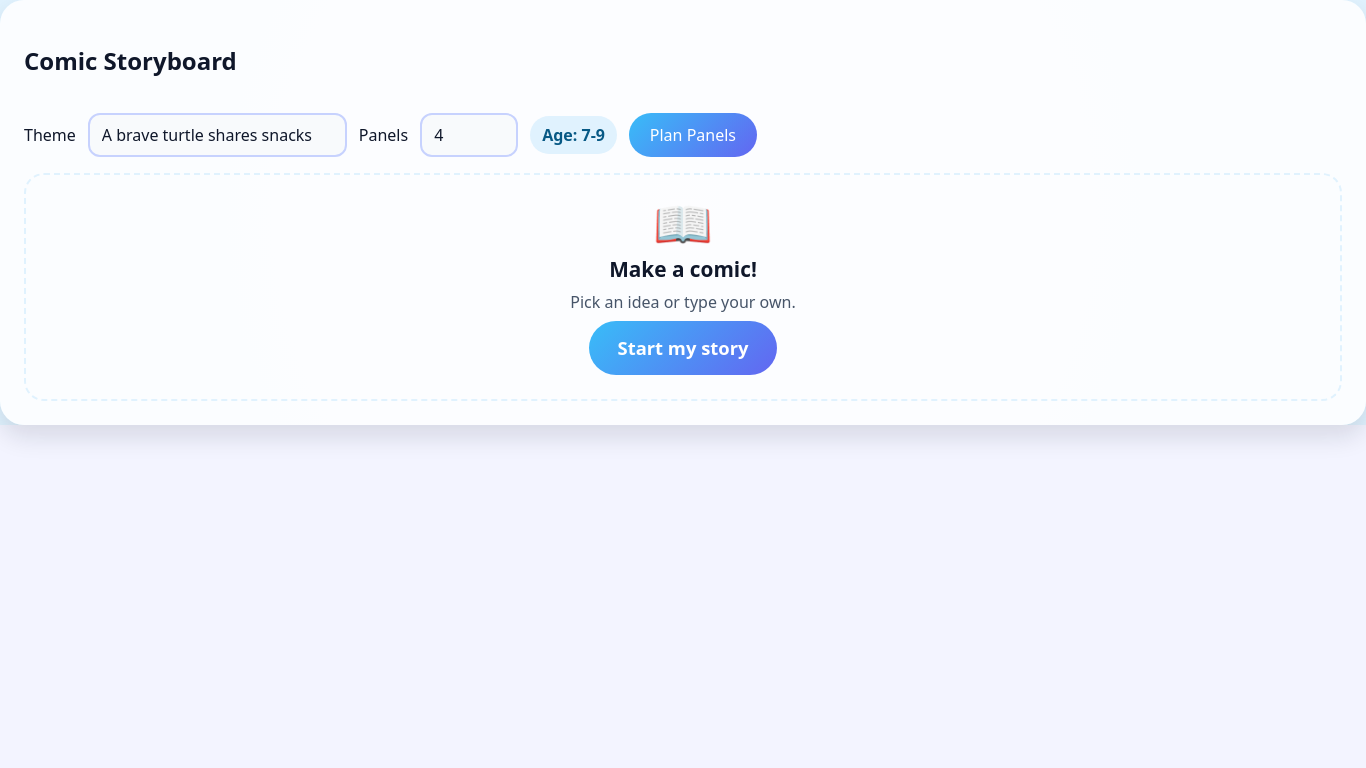
ComicBoard artwork rendering › clears stale panels when a later response is degraded
Click the button "Plan Panels".
click(693, 135)  # box [629,113,757,157]
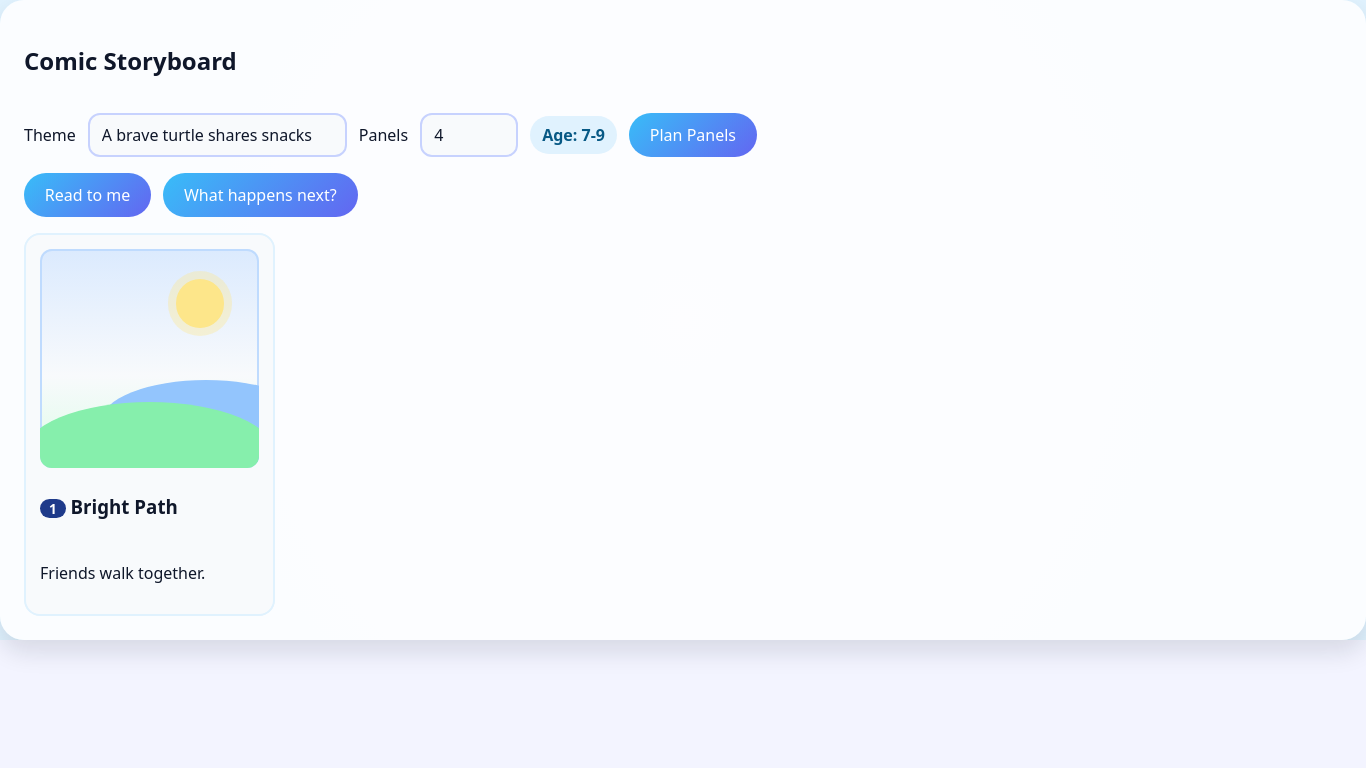
Now the heading "1 Bright Path" is shown, box [40,494,178,519]
Click the button "Plan Panels".
click(693, 135)  # box [629,113,757,157]
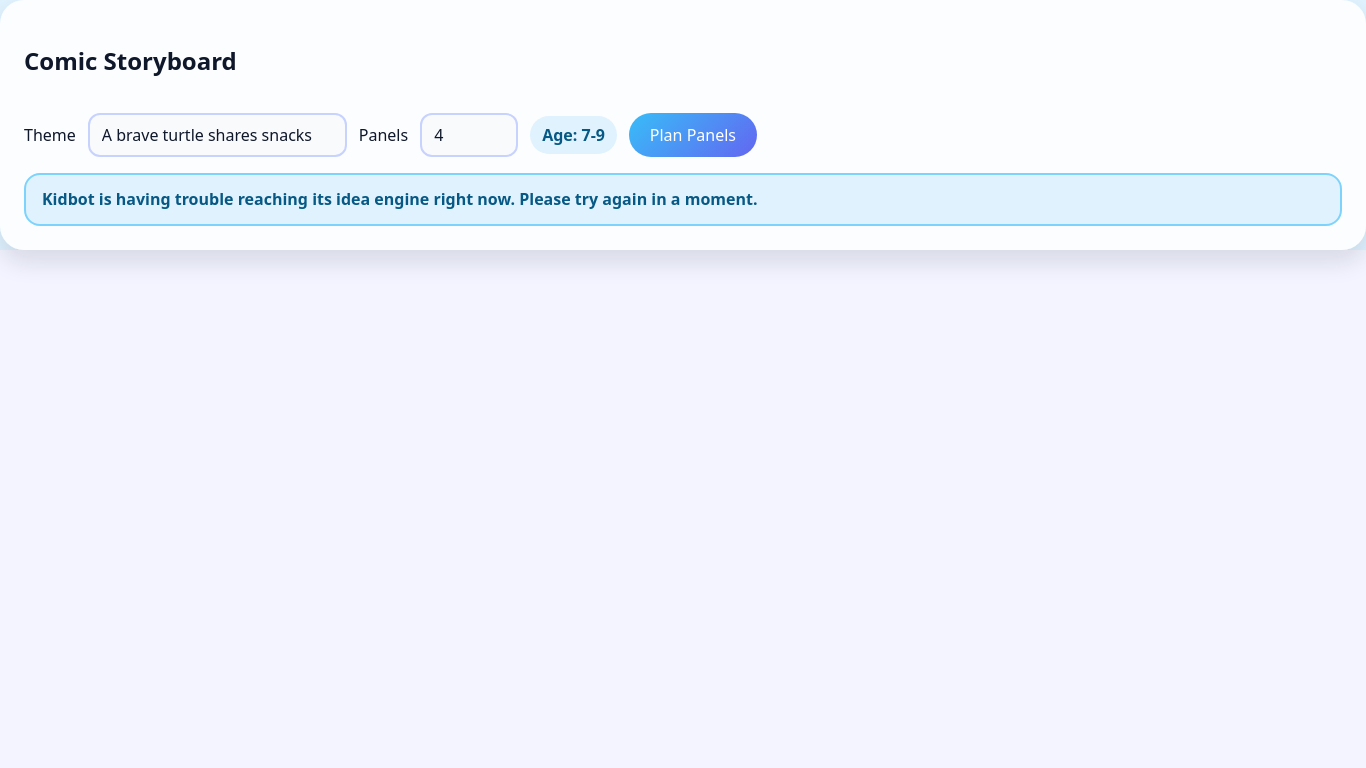
Now the heading "Bright Path" is gone
